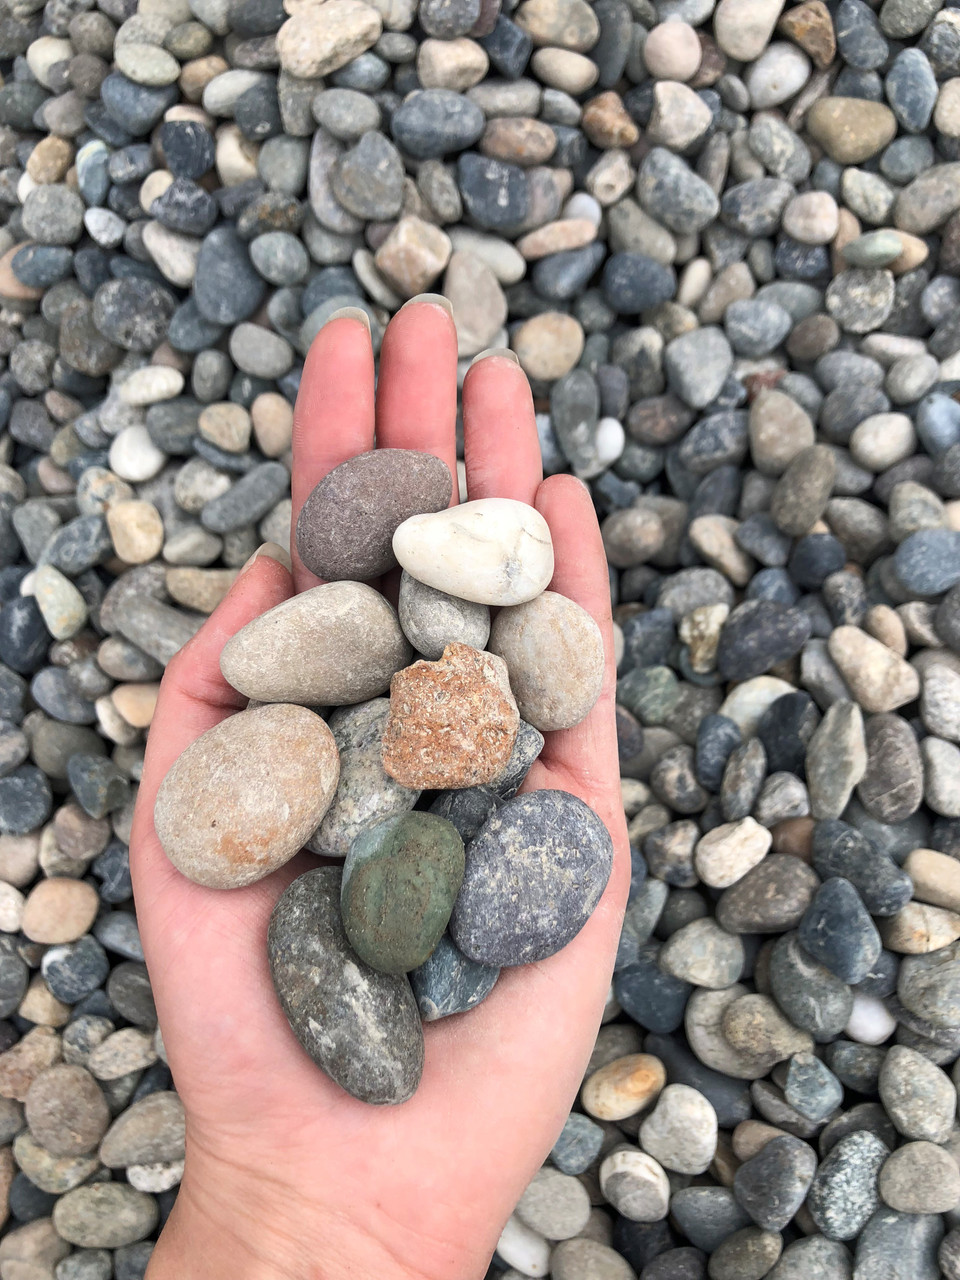rock: (630, 292, 952, 1265), (148, 445, 614, 1110), (9, 11, 941, 285), (0, 294, 144, 1263)
